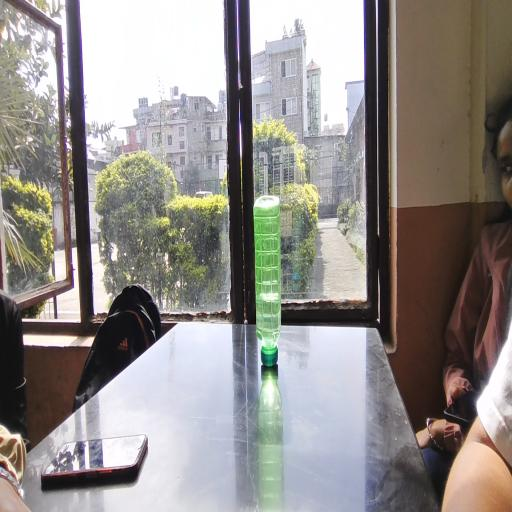Bottle: (250, 198, 287, 376)
